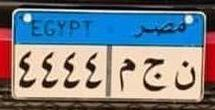4: (82, 52, 105, 90), (37, 52, 60, 88), (61, 52, 79, 88), (19, 50, 34, 90)
jeem: (141, 55, 166, 95)
meem: (115, 56, 137, 95)
noon: (173, 58, 198, 92)
